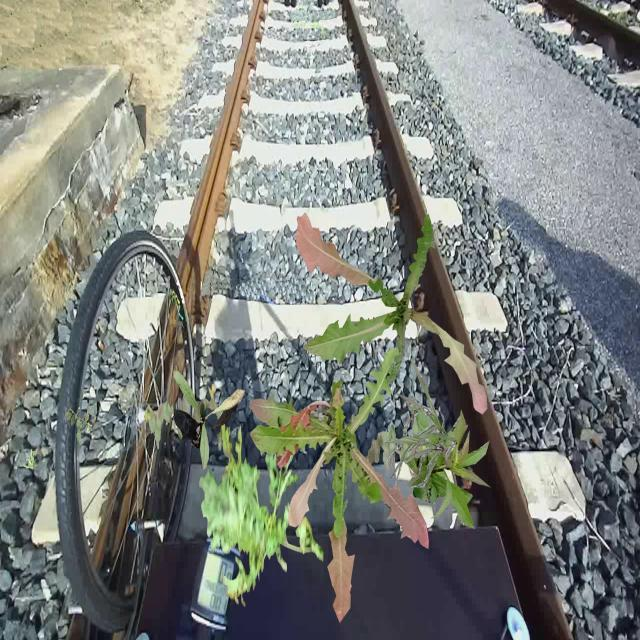Plant: (249, 346, 429, 624), (295, 212, 488, 414), (199, 412, 324, 608), (403, 400, 492, 530), (385, 363, 458, 488), (173, 370, 244, 470), (144, 383, 230, 452), (342, 413, 428, 482), (65, 403, 92, 444), (24, 449, 38, 469)
